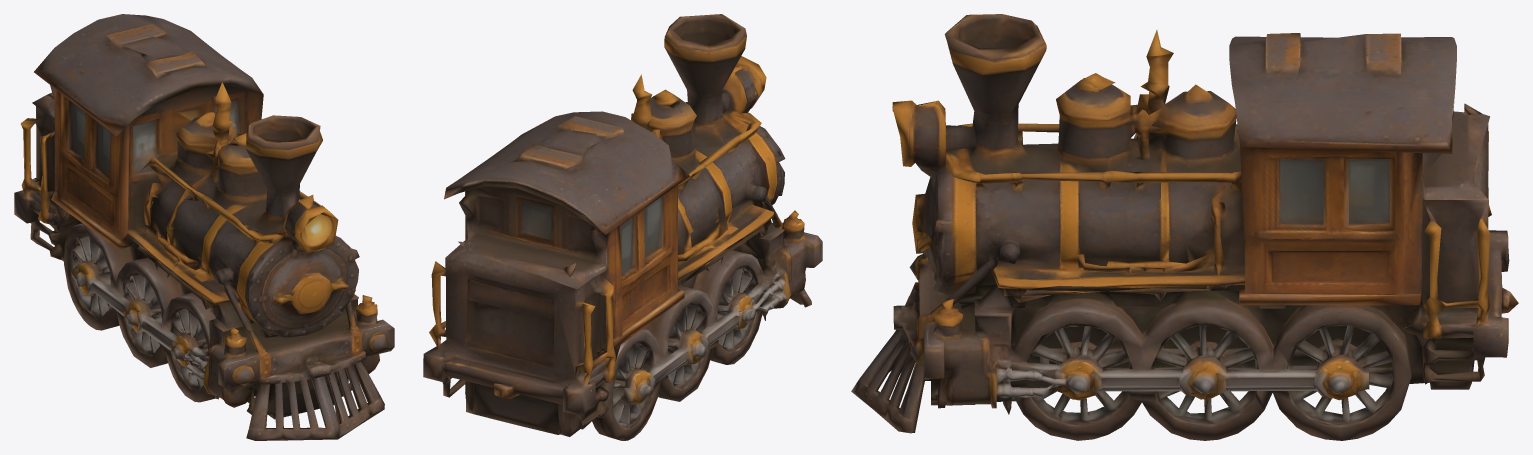
File: locomotive.glb
The picture shows the model from 3 angles, left to right: view 1: azimuth 30°, elevation 25°; view 2: azimuth 150°, elevation 25°; view 3: azimuth 270°, elevation 25°; orthographic projection. The views are drawn at different scales.
Parts seen in each view (by area): view 1: tripo_node_7a63c044-abb7-4629-bd00-69fde9c276d9; view 2: tripo_node_7a63c044-abb7-4629-bd00-69fde9c276d9; view 3: tripo_node_7a63c044-abb7-4629-bd00-69fde9c276d9.
Part boxes in pixels (x1=…): tripo_node_7a63c044-abb7-4629-bd00-69fde9c276d9: x1=14, y1=14, x2=394, y2=440; tripo_node_7a63c044-abb7-4629-bd00-69fde9c276d9: x1=423, y1=14, x2=822, y2=440; tripo_node_7a63c044-abb7-4629-bd00-69fde9c276d9: x1=851, y1=14, x2=1518, y2=440.
Bounding box in the file's own units: 0.3873 × 0.6118 × 0.9963.
1 material, 1 textured.
